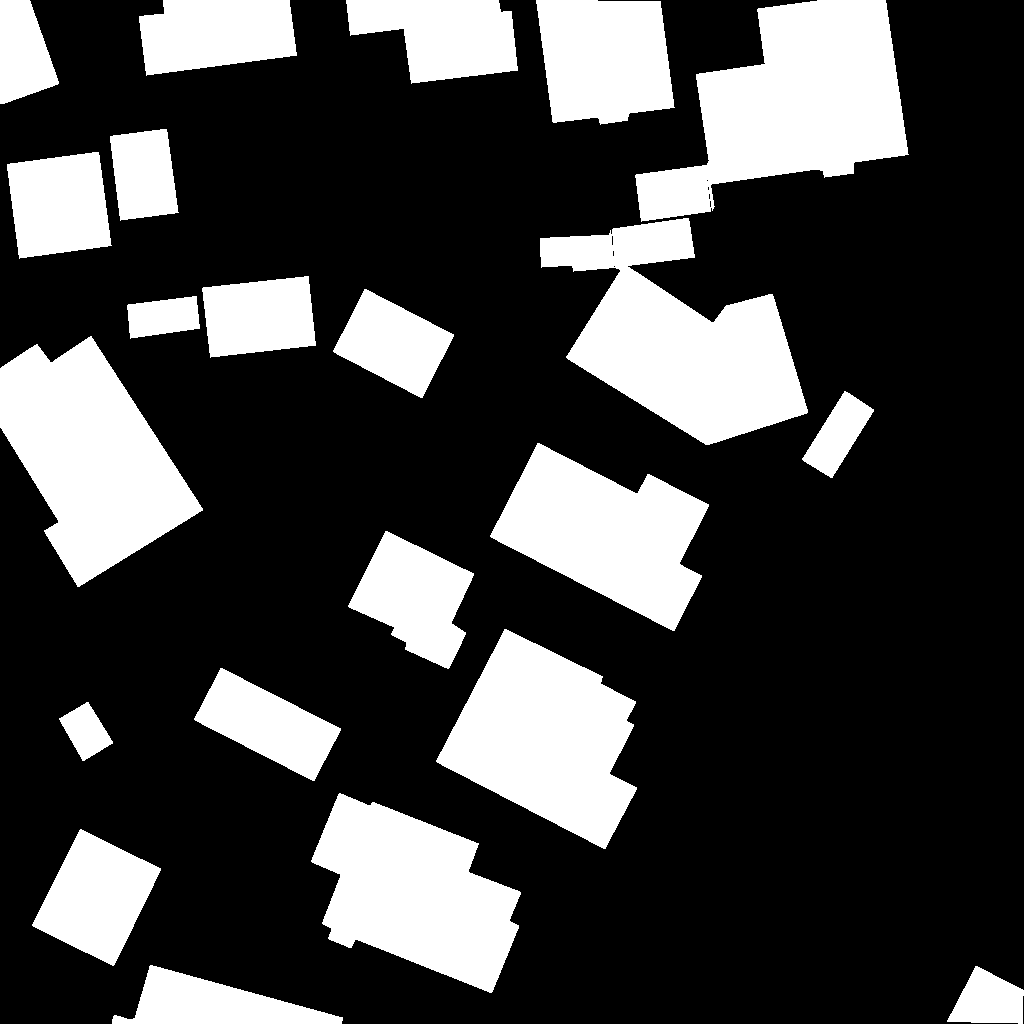building: (566, 218, 809, 446), (0, 336, 204, 588), (696, 0, 909, 212), (436, 629, 638, 850), (311, 793, 522, 994), (490, 443, 710, 632), (32, 829, 162, 967), (348, 531, 475, 670), (536, 0, 675, 125), (194, 668, 342, 782), (346, 0, 519, 84), (112, 965, 344, 1024), (333, 289, 455, 399), (139, 0, 298, 76), (7, 152, 112, 259), (202, 276, 317, 358), (802, 391, 875, 479), (110, 129, 179, 221), (0, 0, 60, 105), (947, 966, 1024, 1024), (635, 165, 712, 222), (59, 702, 114, 762), (540, 229, 615, 272), (127, 296, 201, 339)
